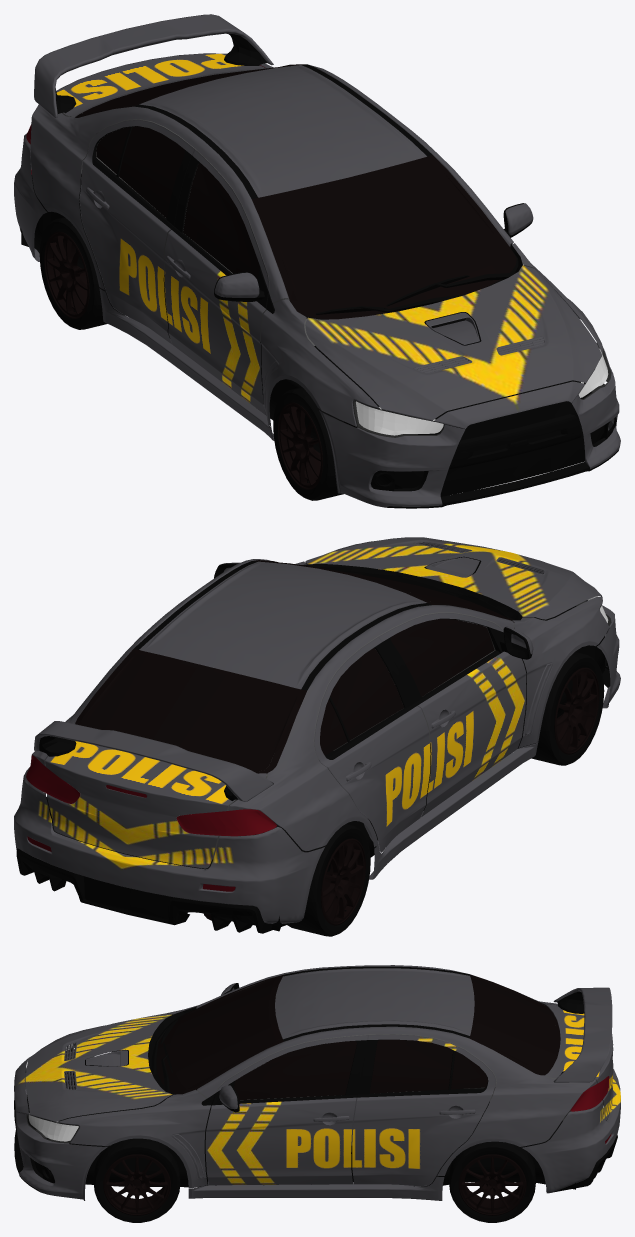
File: mobilPolisi.fbx
3 renders of one model, top to bottom at view 1: azimuth 30°, elevation 25°; view 2: azimuth 150°, elevation 25°; view 3: azimuth 270°, elevation 25°, orthographic. The views are drawn at different scales.
Parts seen in each view (by area): view 1: Object_3.001, Object_3.003, Object_3.002; view 2: Object_3.001, Object_3.002, Object_3.003; view 3: Object_3.001, Object_3.003, Object_3.002.
Boxes of the visible parts, left/top/right/bottom form: Object_3.001: left=14, top=14, right=620, bottom=508; Object_3.003: left=273, top=387, right=343, bottom=500; Object_3.002: left=39, top=213, right=123, bottom=329; Object_3.001: left=14, top=537, right=620, bottom=933; Object_3.002: left=46, top=796, right=370, bottom=936; Object_3.003: left=518, top=652, right=604, bottom=765; Object_3.001: left=14, top=965, right=620, bottom=1200; Object_3.003: left=93, top=1049, right=180, bottom=1222; Object_3.002: left=449, top=1138, right=535, bottom=1222.
Bounding box in the file's own units: 618 × 440 × 1352.
